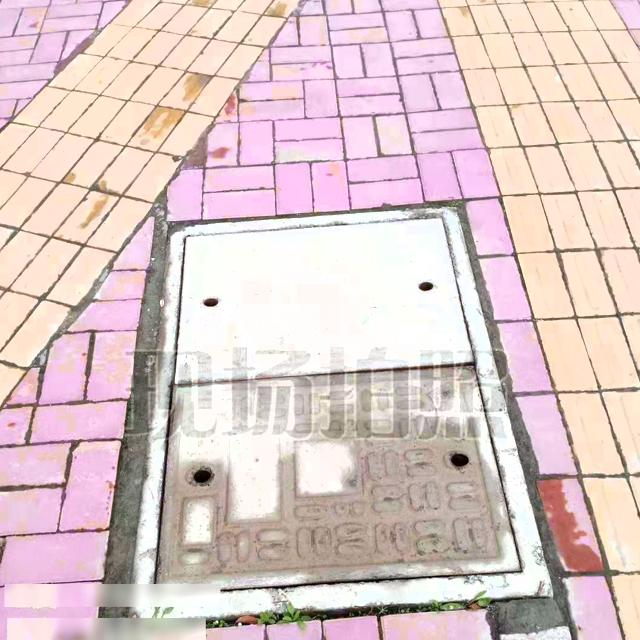good: (160, 223, 501, 589)
